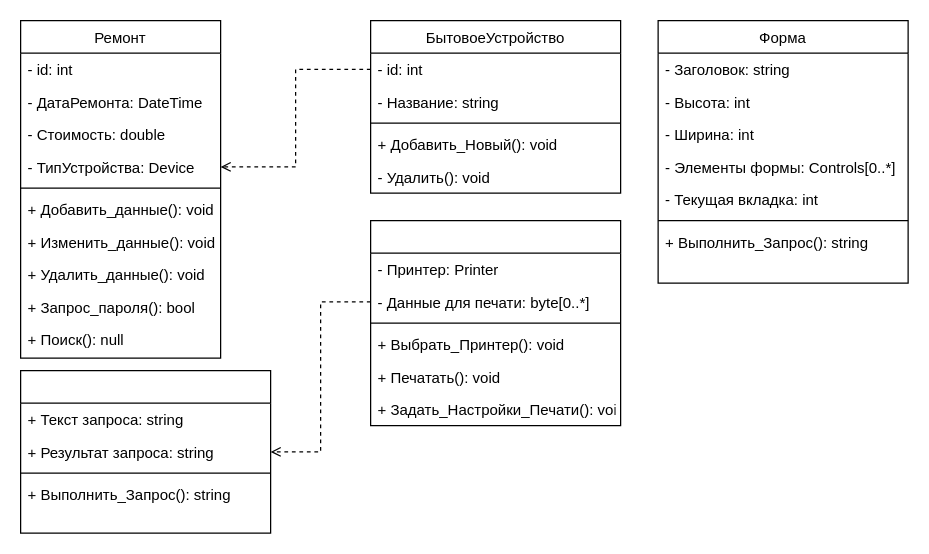
The diagram is 929 pixels wide and 554 high, and some of its shapes have lost their labels. The shapes that lost their labels are listed below. From the top down, each one's box as (x1, y1, x2, y2) in pixels, then its label:
(369, 219, 621, 426): Печать
(19, 369, 271, 533): ПоисковойЗапрос
